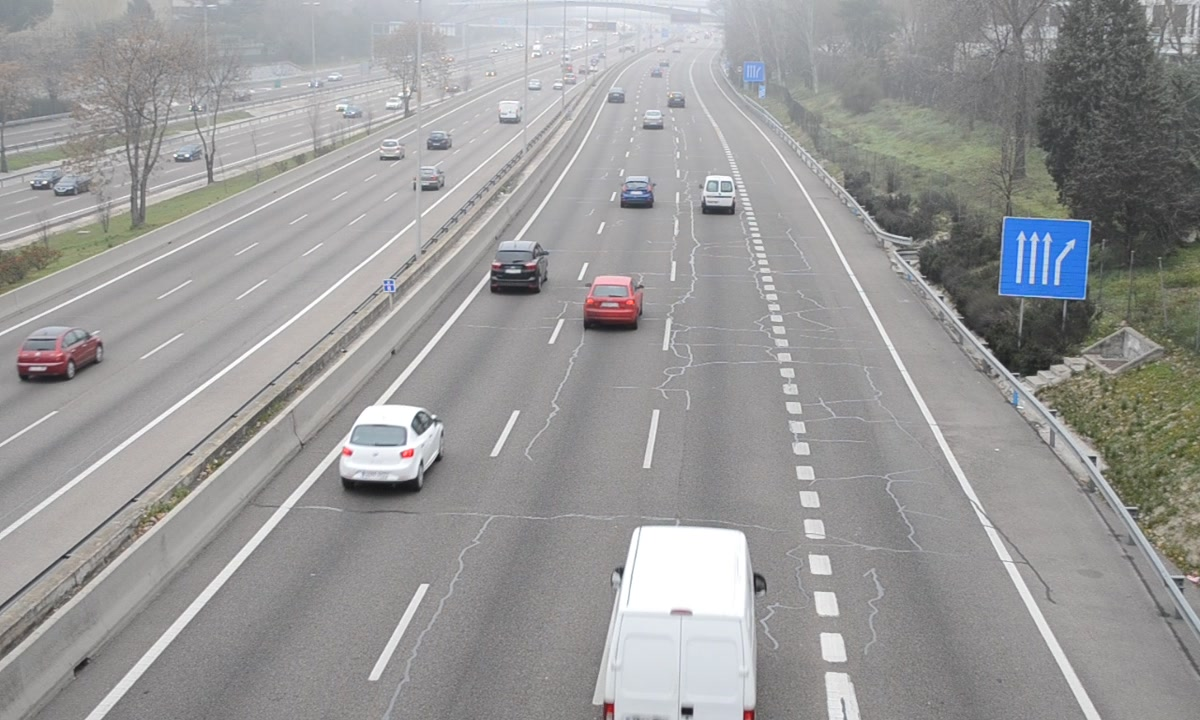car: (338, 405, 444, 484), (585, 274, 638, 327), (491, 240, 544, 292), (620, 175, 654, 208)
van: (595, 526, 756, 720), (701, 173, 737, 214)
